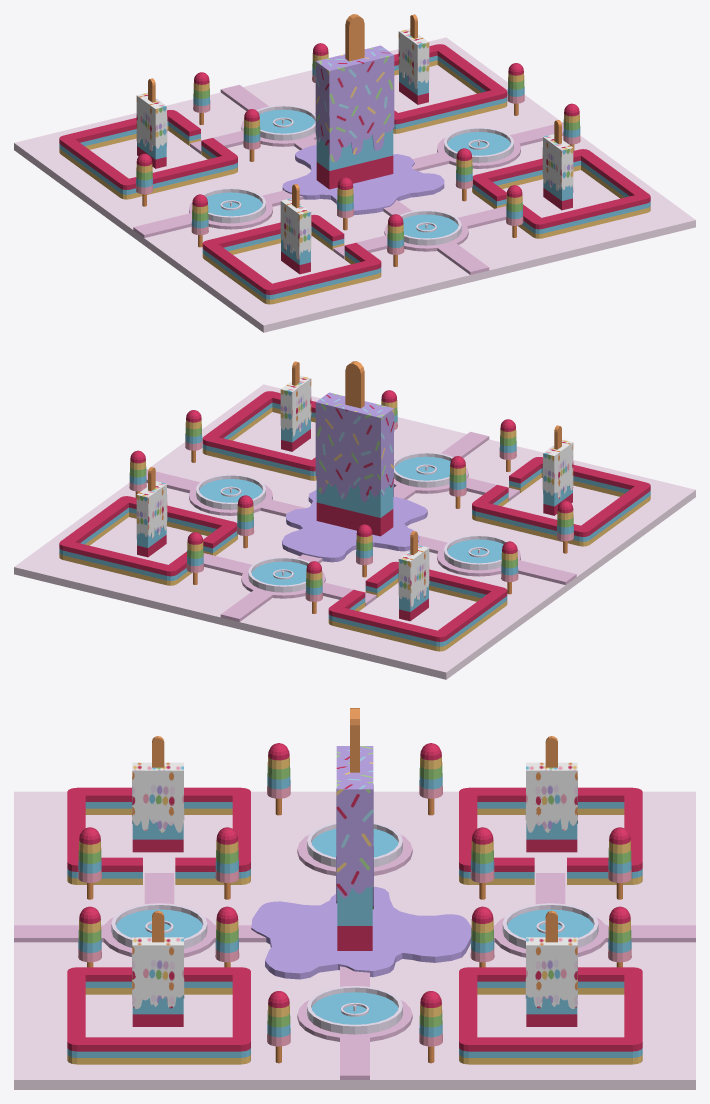
The model's file is D2_CENTRAL_PLAZA.fbx.
The picture shows the model from 3 angles, top to bottom: view 1: azimuth 30°, elevation 25°; view 2: azimuth 150°, elevation 25°; view 3: azimuth 270°, elevation 25°; orthographic projection. The views are drawn at different scales.
Visible parts, largest first — view 1: Cube.032, Cube.035, Cube.036, Cylinder.073, Sphere.018, Cube.034, Cylinder.072, GP_Layer, Cube.033; view 2: Cube.032, Cube.035, Cube.036, Cylinder.073, Sphere.018, Cube.034, Cylinder.072, GP_Layer, Cube.033; view 3: Cube.032, Cube.035, Cube.036, Sphere.018, Cylinder.073, GP_Layer, Cylinder.072, Cube.034, Cube.033.
Boxes of the visible parts, x1=… form: Cube.032: x1=14, y1=37, x2=695, y2=332; Cube.035: x1=59, y1=44, x2=650, y2=304; Cube.036: x1=136, y1=14, x2=573, y2=274; Cylinder.073: x1=190, y1=84, x2=506, y2=274; Sphere.018: x1=136, y1=43, x2=580, y2=266; Cube.034: x1=315, y1=45, x2=394, y2=162; Cylinder.072: x1=133, y1=122, x2=563, y2=237; GP_Layer: x1=282, y1=144, x2=444, y2=215; Cube.033: x1=316, y1=14, x2=393, y2=189; Cube.032: x1=14, y1=384, x2=695, y2=679; Cube.035: x1=59, y1=391, x2=650, y2=651; Cube.036: x1=136, y1=361, x2=573, y2=621; Cylinder.073: x1=203, y1=431, x2=519, y2=621; Sphere.018: x1=129, y1=390, x2=573, y2=613; Cube.034: x1=315, y1=392, x2=394, y2=501; Cylinder.072: x1=146, y1=469, x2=576, y2=584; GP_Layer: x1=282, y1=490, x2=427, y2=562; Cube.033: x1=316, y1=361, x2=393, y2=536; Cube.032: x1=14, y1=791, x2=695, y2=1089; Cube.035: x1=67, y1=787, x2=642, y2=1064; Cube.036: x1=132, y1=736, x2=577, y2=1026; Sphere.018: x1=78, y1=743, x2=631, y2=1063; Cylinder.073: x1=14, y1=873, x2=695, y2=957; GP_Layer: x1=251, y1=886, x2=471, y2=979; Cylinder.072: x1=297, y1=822, x2=412, y2=1079; Cube.034: x1=336, y1=746, x2=373, y2=909; Cube.033: x1=337, y1=708, x2=372, y2=950.
Size of the model in its own units: 3751 by 1437 by 3751.
Materials: 2 (2 with a texture image).
